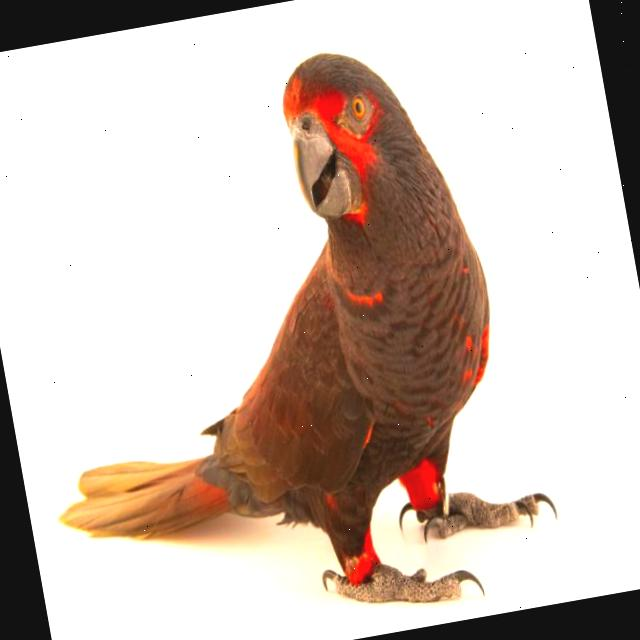Nuri Hitam: (0, 3, 604, 640)
